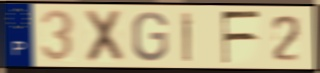2: (270, 14, 302, 63)
3: (38, 8, 78, 64)
F: (219, 9, 262, 66)
G: (131, 10, 170, 63)
I: (181, 10, 194, 63)
X: (83, 8, 126, 65)
